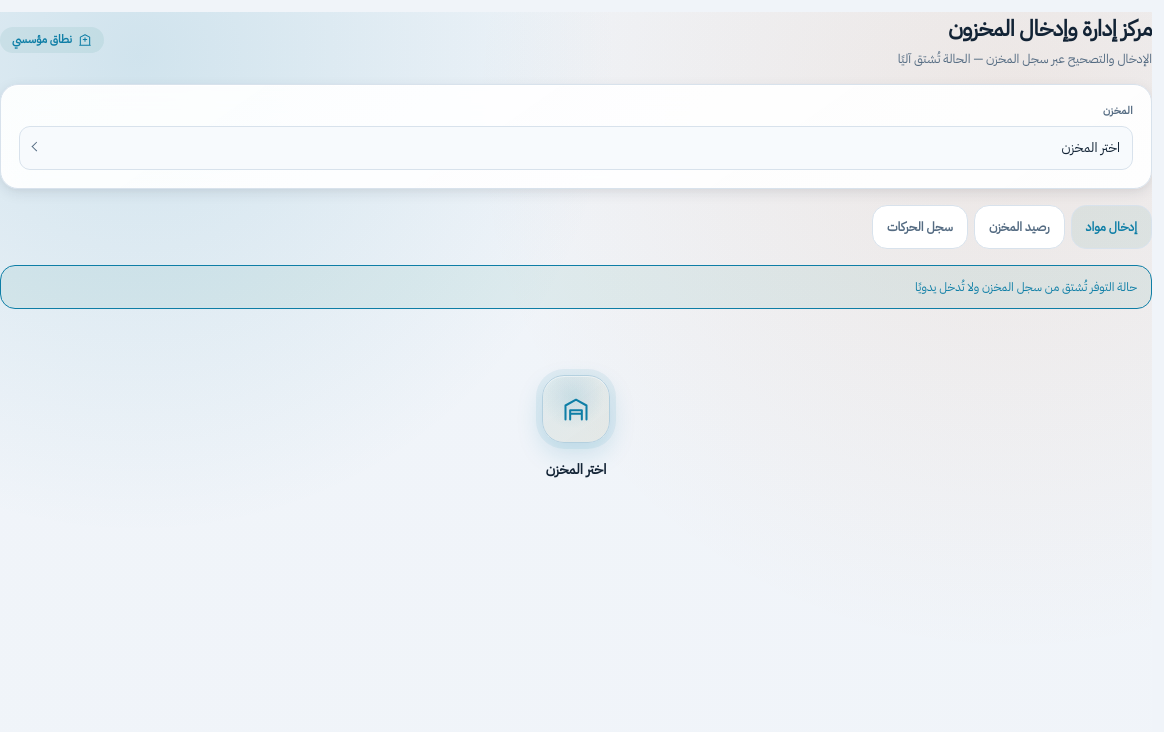
Test: reproduction — how B settling resolves (denied / failed / stale-after-fresh) › B’s data request FAILS outright: the panel shows its real error state, not A’s stale rows
The image size is (1164, 732).
Step 1. Select "مخزن wh-A" in the dropdown labelled "المخزن" → (576, 148), box [19,126,1133,170]
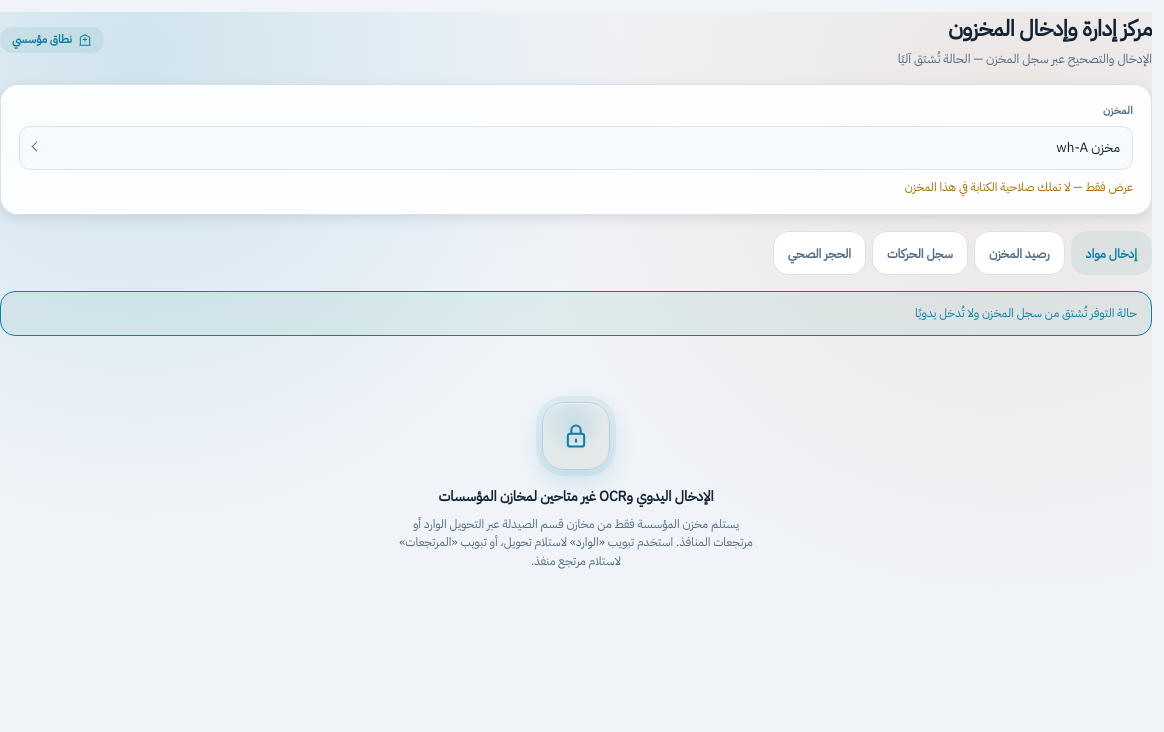
Expected: the tab "الحجر الصحي" is shown
Step 2. Click the tab "الحجر الصحي" → (819, 253), box [773,231,866,275]
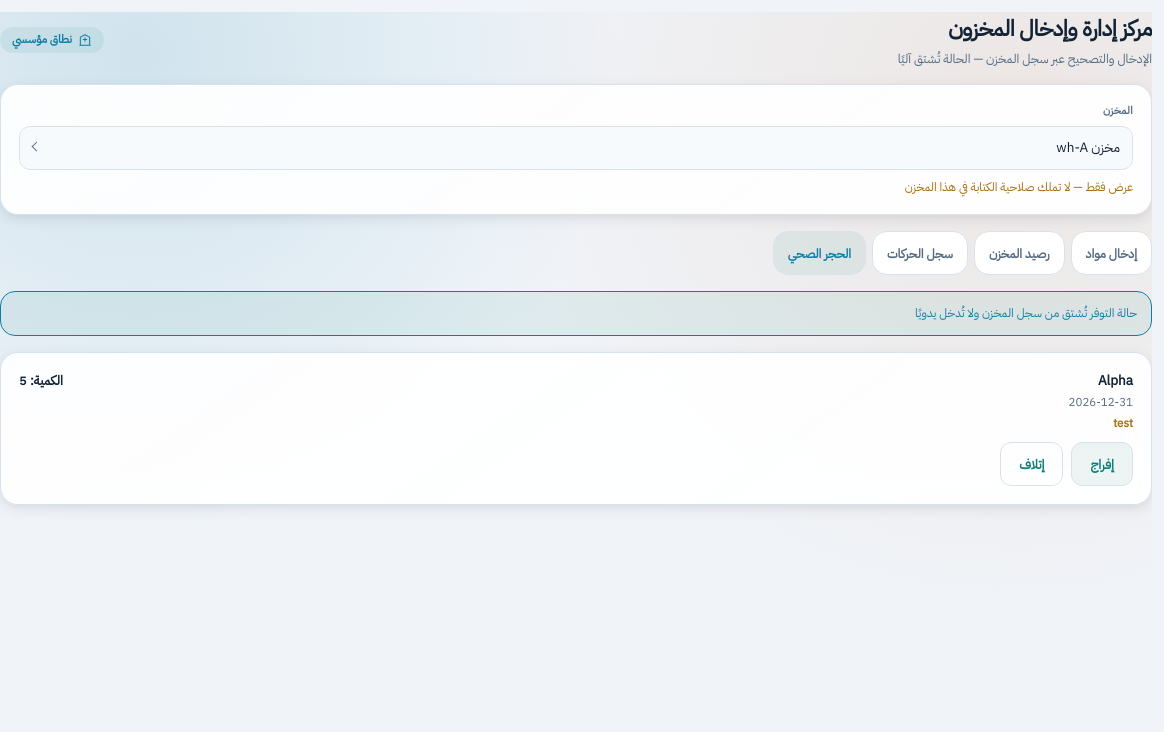
Expected: the text "Alpha" is shown, [1098,370,1133,391]
Step 3. Select "مخزن wh-B" in the dropdown labelled "المخزن" → (576, 148), box [19,126,1133,170]
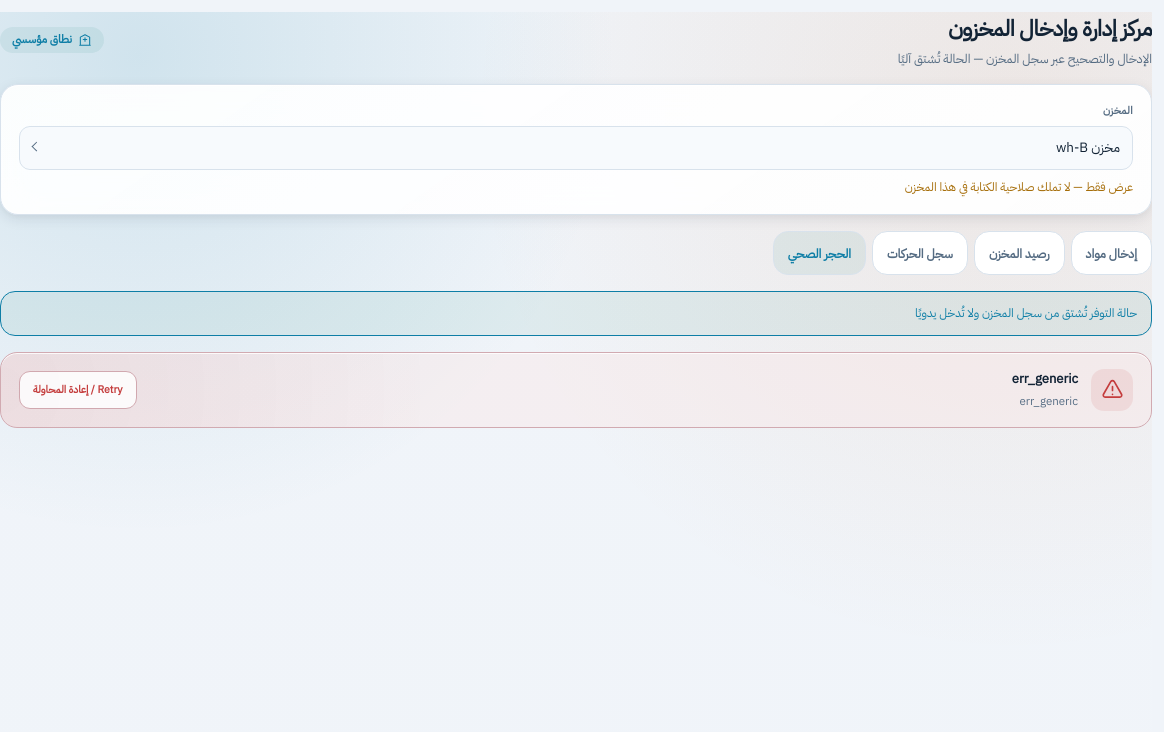
Expected: the message "err_generic err_generic Retry / إعادة المحاولة" is shown, [0,352,1152,428]
Expected: the text "Alpha" is gone
Expected: the button "إفراج" is gone
